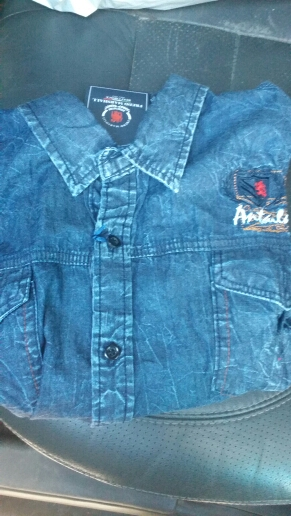shirts: (5, 80, 291, 436)
